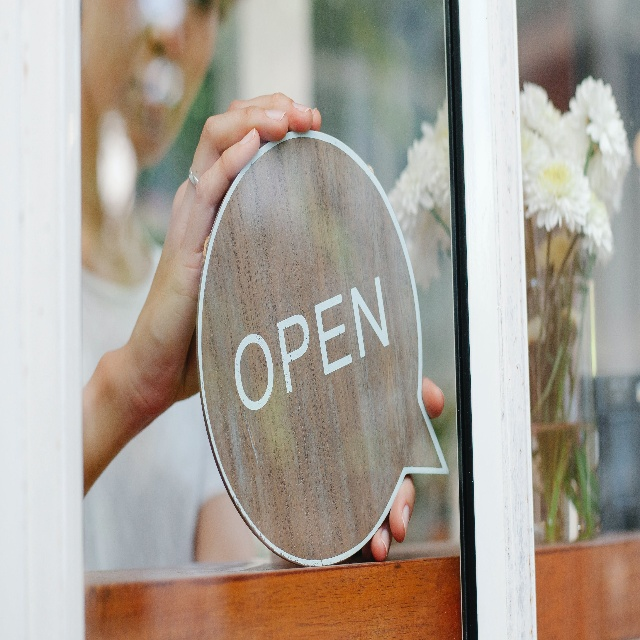Sin_guantes: (125, 92, 323, 422), (361, 382, 446, 565)
